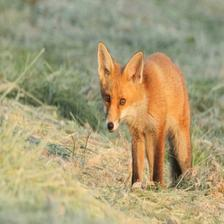fox: (94, 34, 204, 206)
